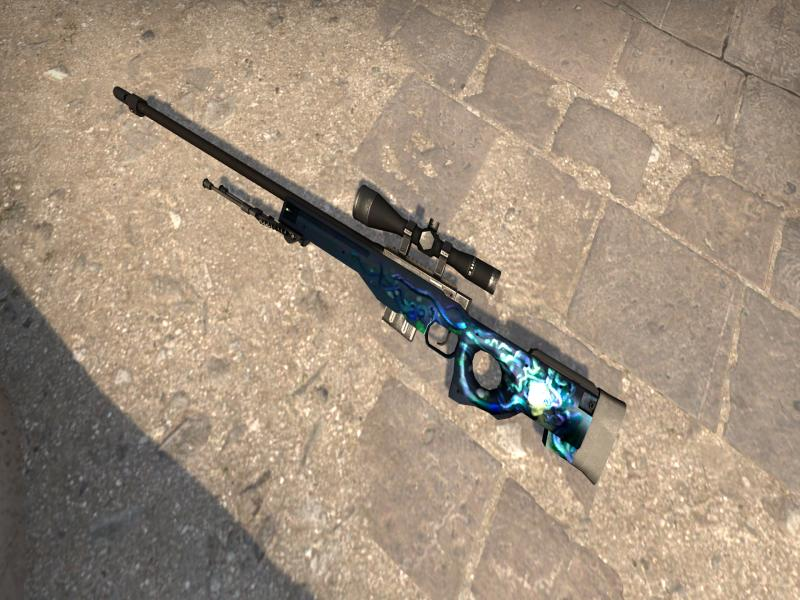AWP: (113, 84, 627, 484)
